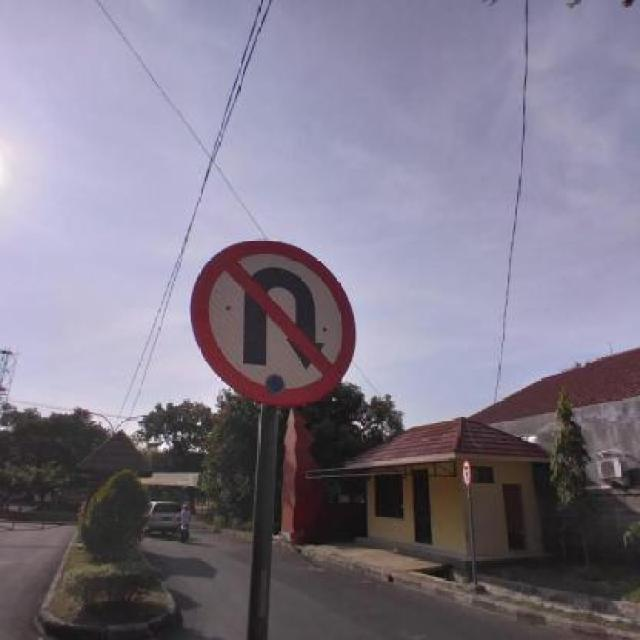u turn prohibited: (189, 231, 363, 406)
